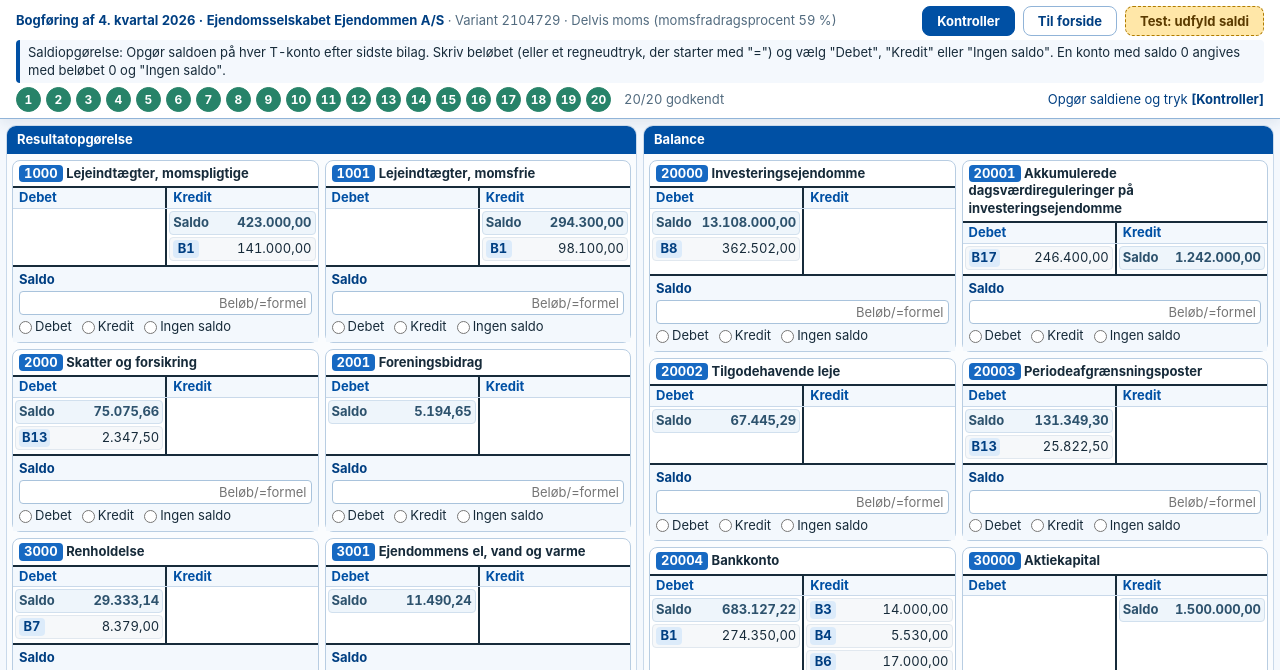
Test: saldofeltet opfører sig som felterne ved bogføringen (6.4) › viser en fejl under feltet, hvis beløbet ikke kan læses
Click the field with placeholder "Beløb/=formel" below "141.000,00" at (165, 303), box [19, 291, 312, 315]
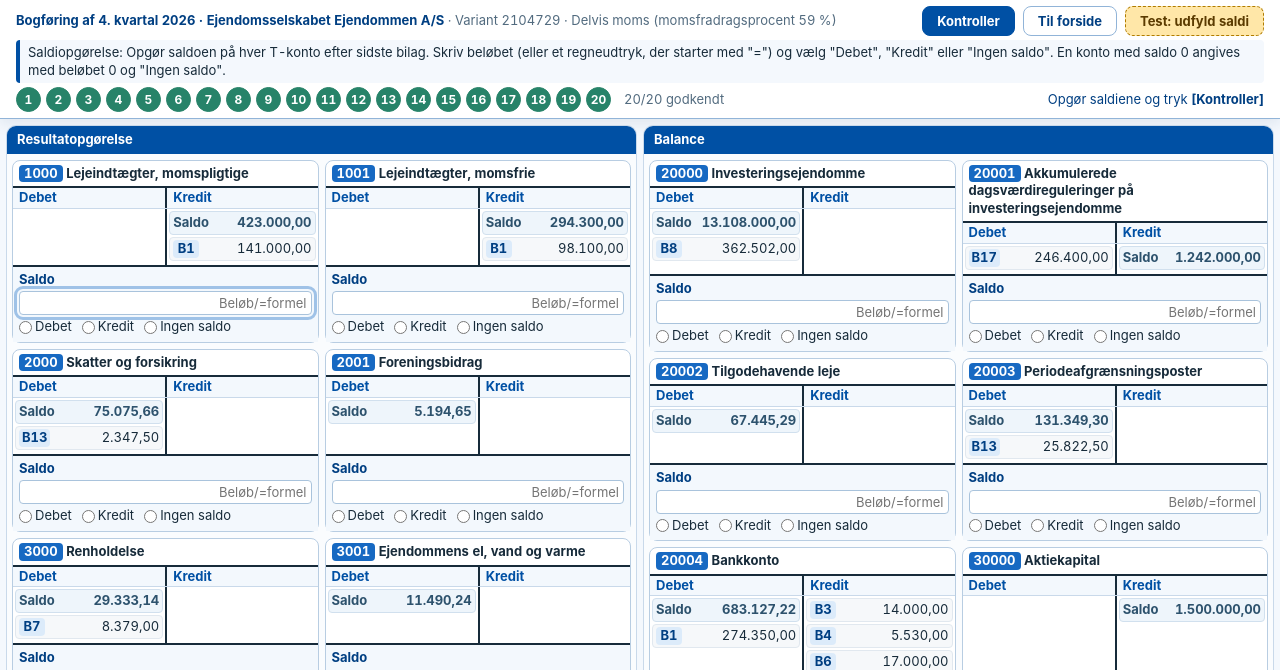
Type keys "tolv"
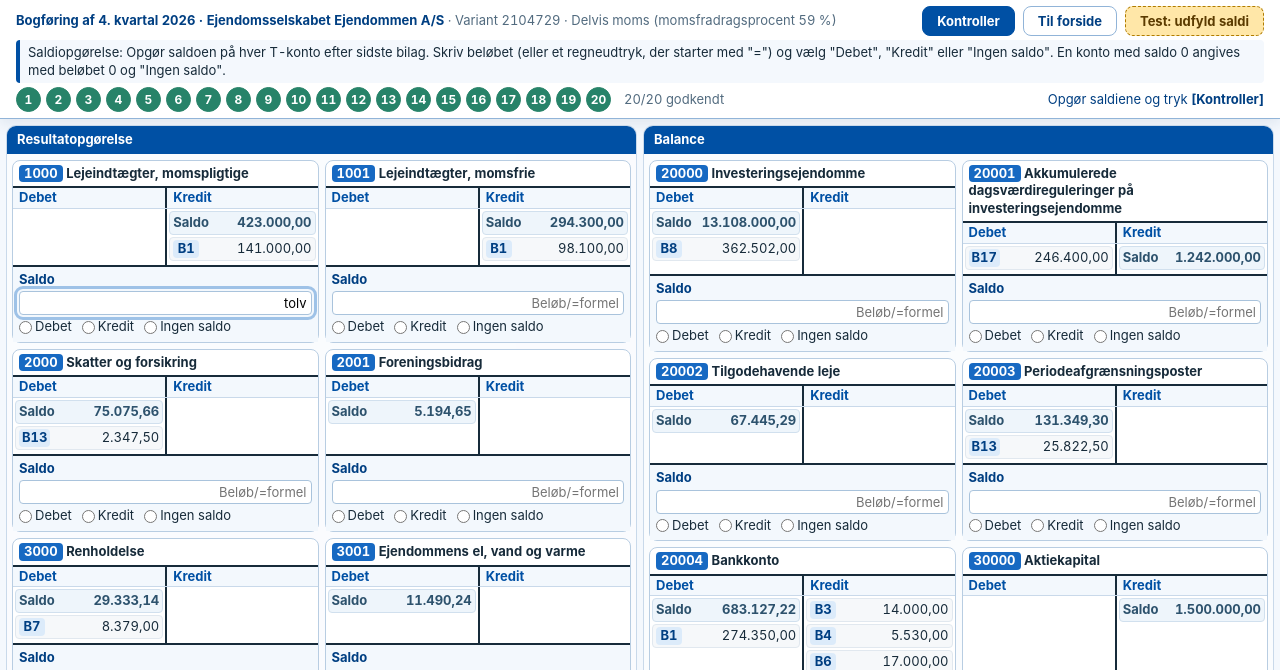
Expected: the text "Skriv et beløb" is not shown
Press Tab
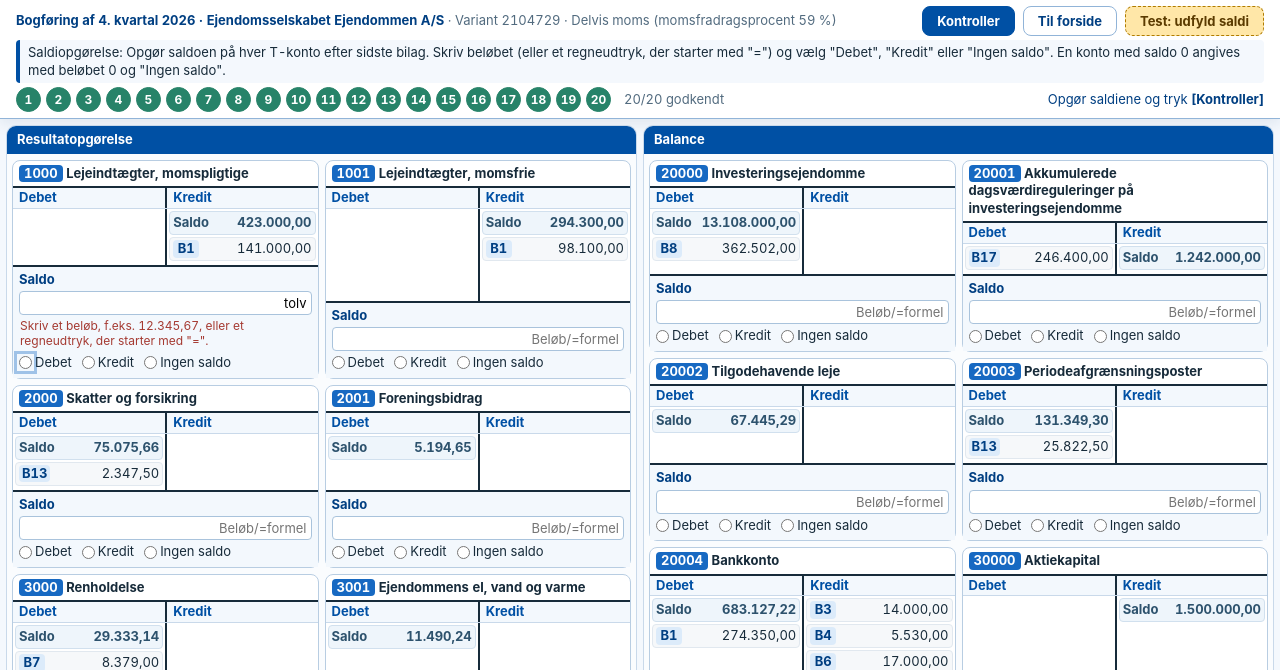
Result: the text "Skriv et beløb" is shown at [20, 318, 244, 348]
